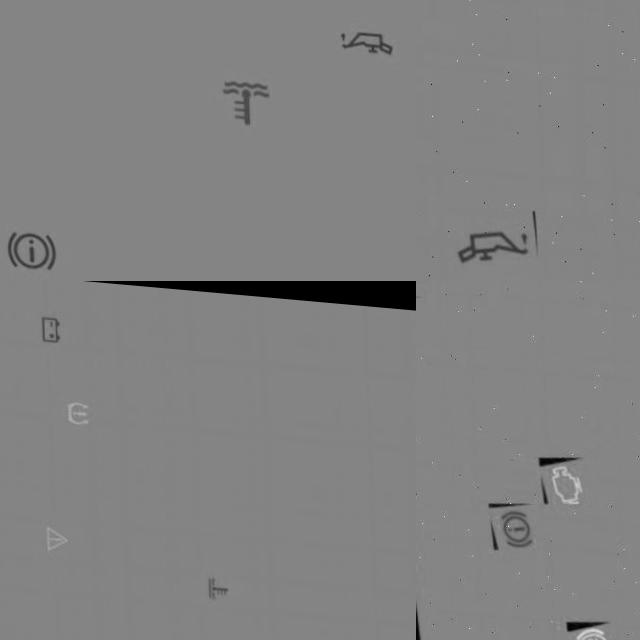High Engine Coolant Temperature: (213, 63, 277, 132)
